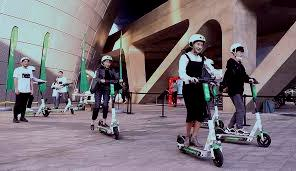helmet: (176, 31, 226, 166), (211, 43, 271, 147), (88, 52, 126, 139)
